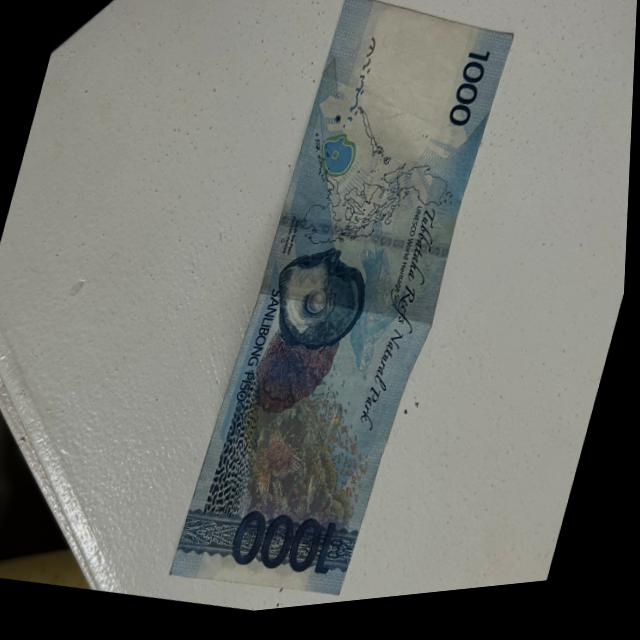1000_pearl: (268, 252, 372, 360)
1000_pearl_watermark: (315, 136, 362, 189)
